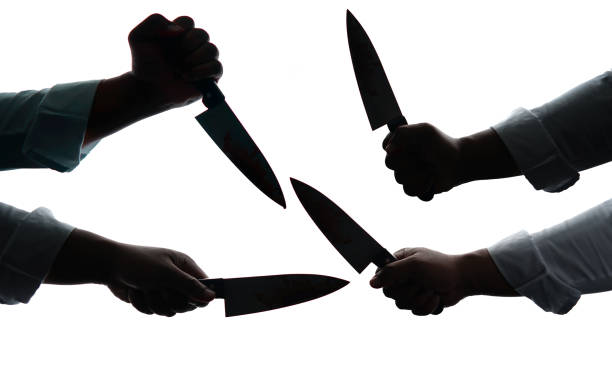knife: (191, 81, 287, 213), (287, 175, 399, 276), (345, 6, 410, 133), (197, 272, 353, 318)
